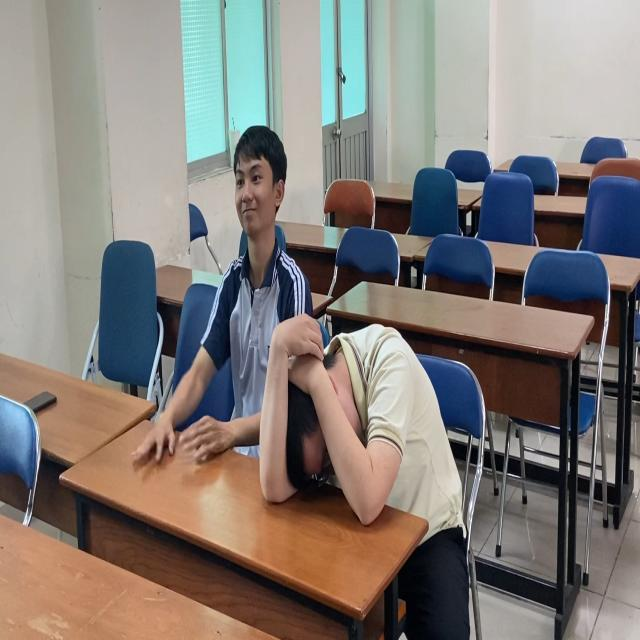sleep: (255, 310, 448, 527)
